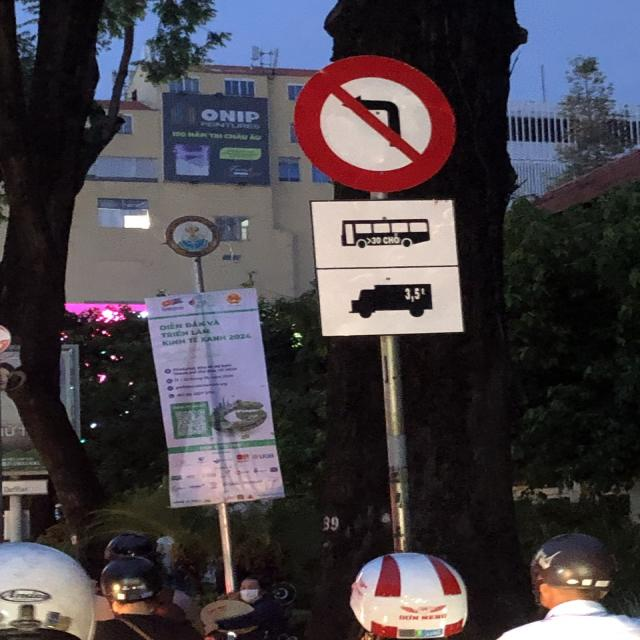Bien bao cam re trai: (275, 37, 469, 194)
